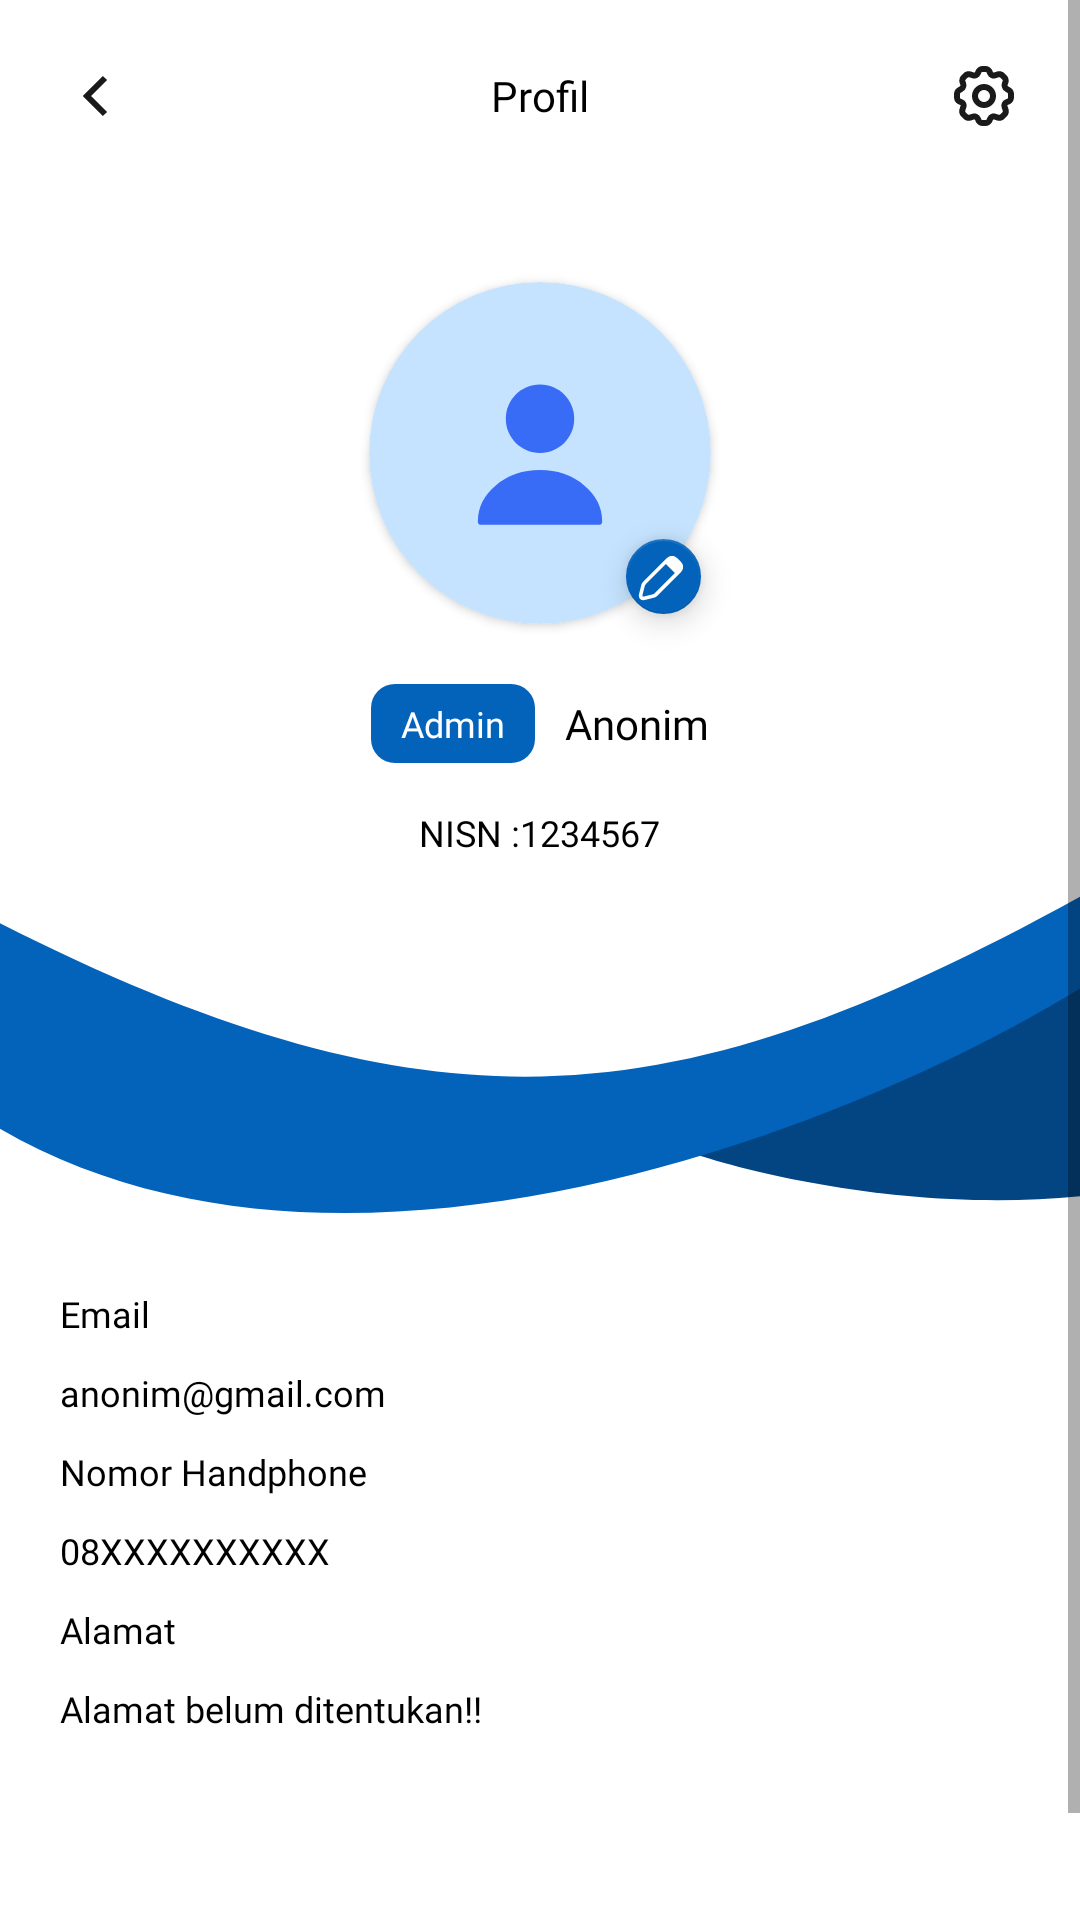

Icon bounding boxes for this 1080×1920 phone screenshot, format (x1,y1,x2,y2):
back: (83,76,107,116)
gear: (954,66,1014,126)
